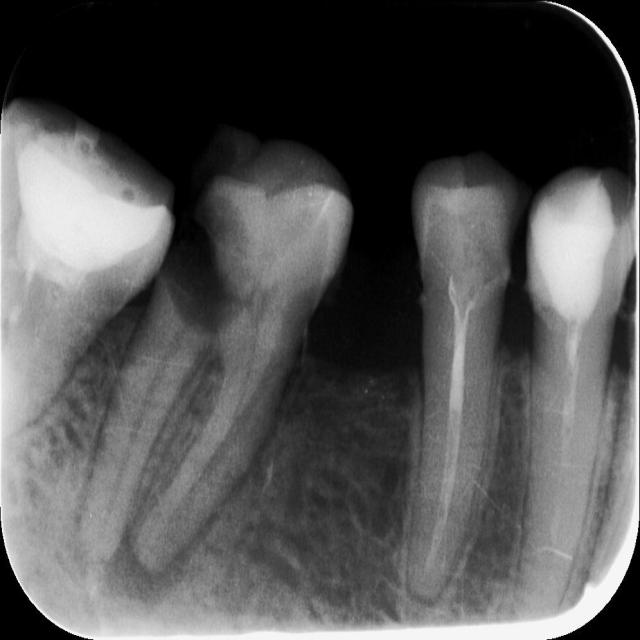Caries: (84, 117, 354, 597)
